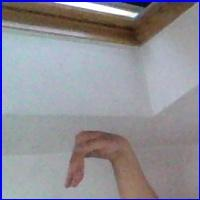del: (61, 128, 137, 192)
